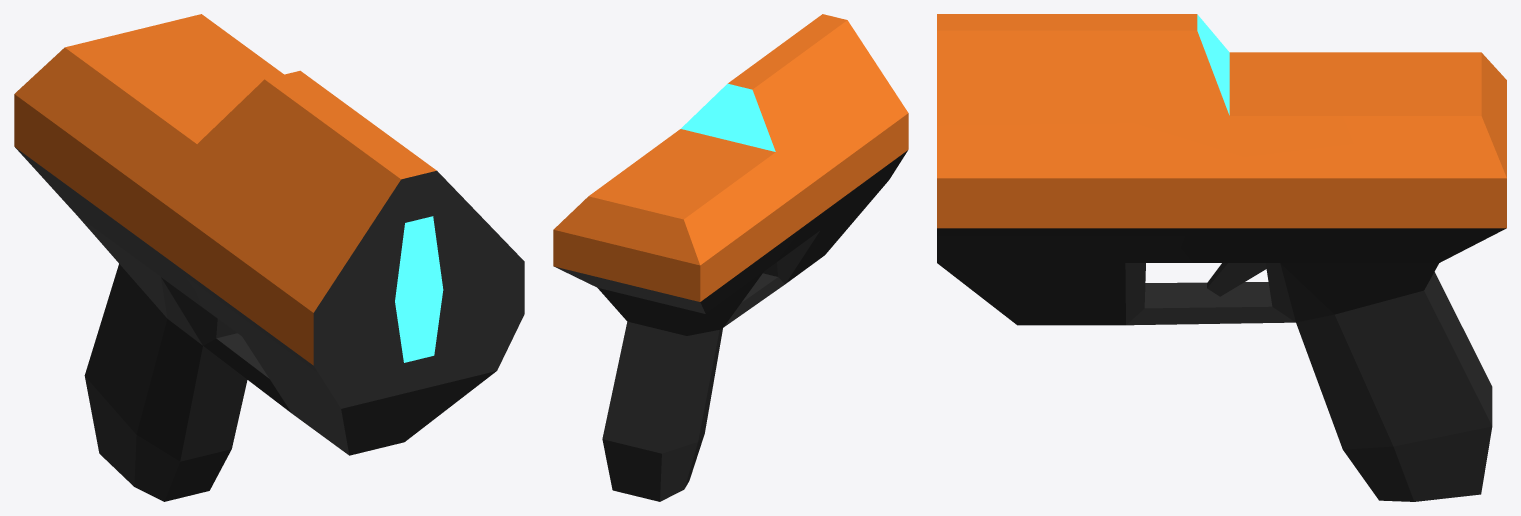
The model's file is matter-manipulator.glb.
The picture shows the model from 3 angles, left to right: view 1: azimuth 30°, elevation 25°; view 2: azimuth 150°, elevation 25°; view 3: azimuth 270°, elevation 25°; orthographic projection. The views are drawn at different scales.
Parts seen in each view (by area): view 1: matter-manipulator; view 2: matter-manipulator; view 3: matter-manipulator.
Boxes of the visible parts, x1,y1,x2,y2 form: matter-manipulator: (14, 14, 524, 501); matter-manipulator: (553, 14, 908, 501); matter-manipulator: (937, 14, 1506, 501).
Size of the model in its own units: 0.1123 by 0.2499 by 0.2759.
1 material, 1 textured.
